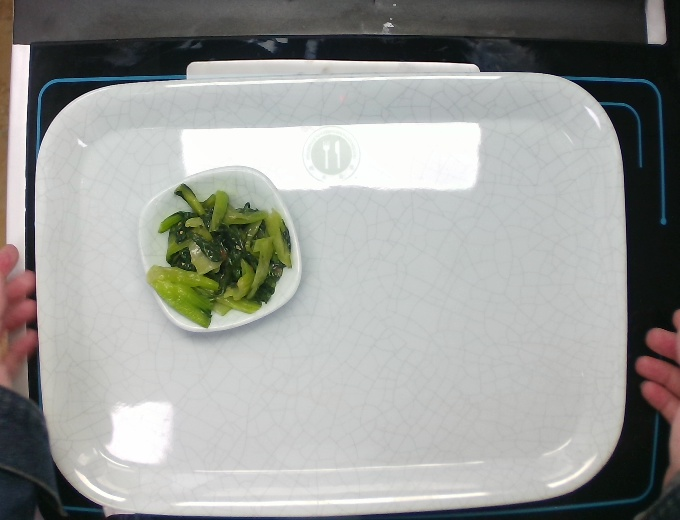JYsf-Si_Fang_Die: (132, 160, 311, 336)
